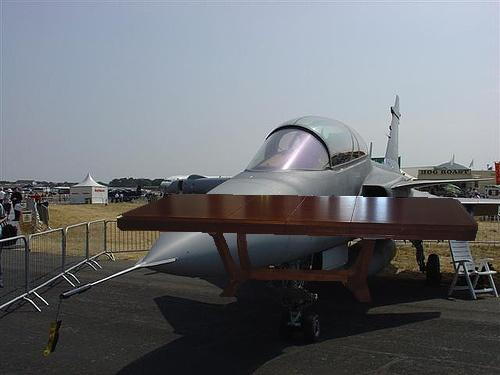tampered: (118, 195, 478, 302)
